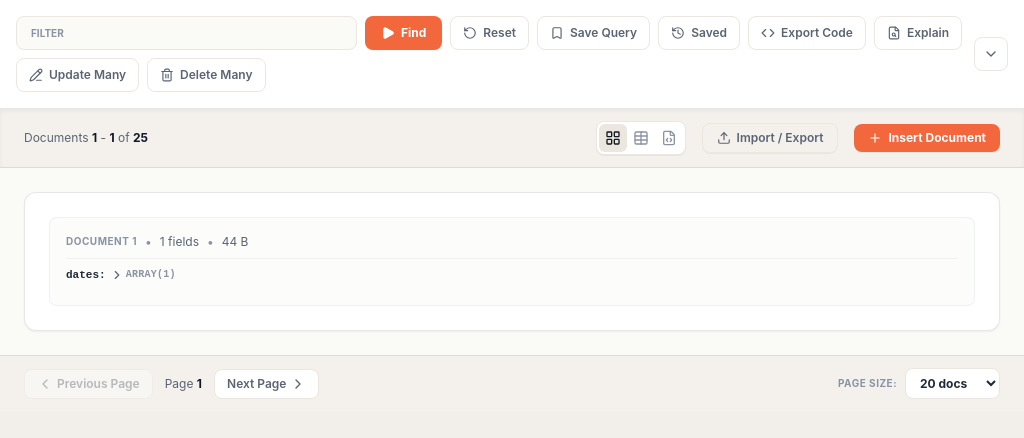
Test: DocumentExplorer – Tree view rendering › renders nested array items that are dates
The width and height of the screenshot is (1024, 438).
Click the button "Array(1)". click: [143, 275]
box: [110,267,176,283]
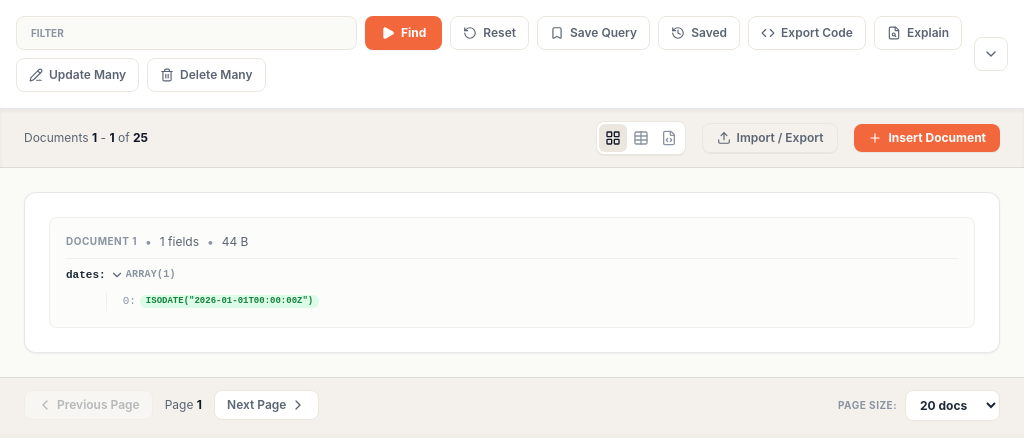
expect the text "ISODate(\"2026-01-01T00:00:00Z\")" is shown: met, box [140,295,319,308]
